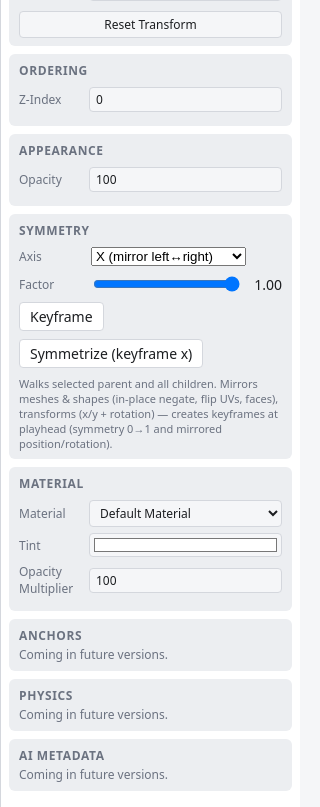
it: InspectorPanel Material opacity multiplier › rejects non-numeric input with a notification and leaves the engine unchanged
(page scrolled)
Replace the text in the number field labelled "Opacity Multiplier" with "abc" at (186, 580), box [89,568,282,592]
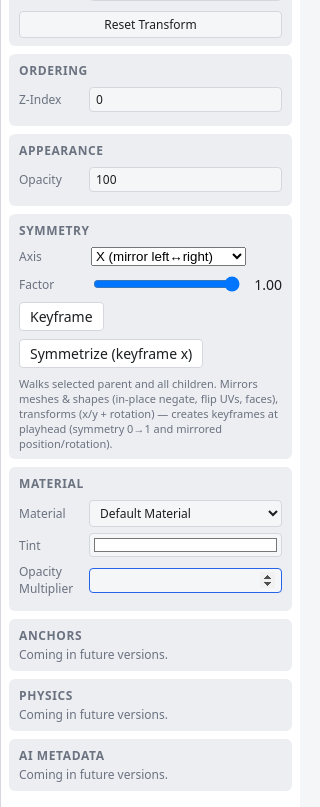
Press Enter
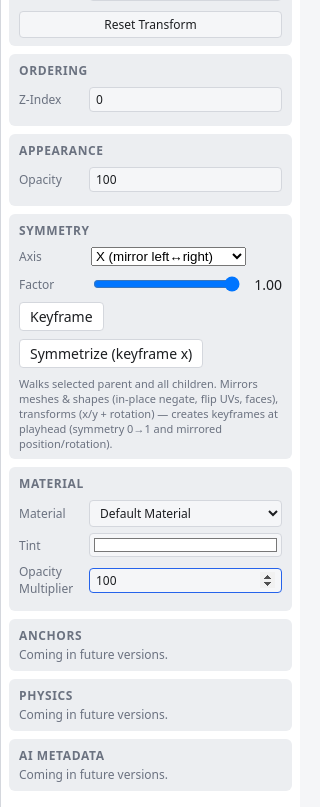
Result: the number field labelled "Opacity Multiplier" holds "100" at [89,568,282,592]
